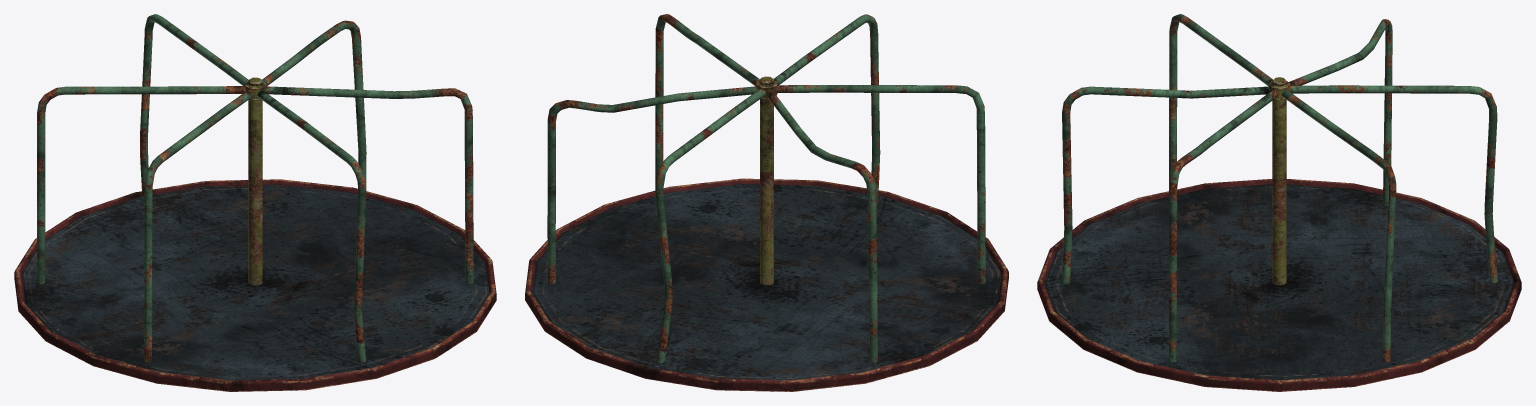
The model's file is CPG_03.fbx.
3 views of the same model, side by side, from view 1: azimuth 30°, elevation 25°; view 2: azimuth 150°, elevation 25°; view 3: azimuth 270°, elevation 25° (orthographic).
Parts seen in each view (by area): view 1: CPG_03; view 2: CPG_03; view 3: CPG_03.
Boxes of the visible parts, left/top/right/bottom form: CPG_03: left=14, top=14, right=496, bottom=391; CPG_03: left=525, top=14, right=1008, bottom=391; CPG_03: left=1037, top=14, right=1521, bottom=391.
Size of the model in its own units: 181 by 98.72 by 181.
